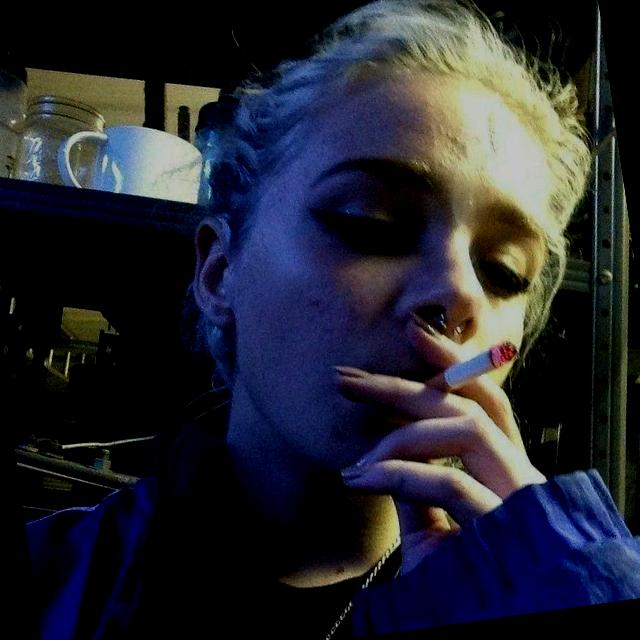cigarette: (410, 315, 540, 411)
